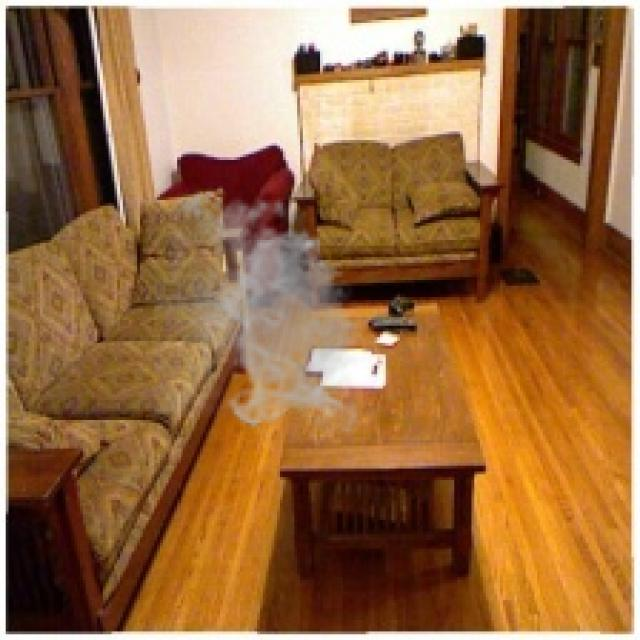smoke: (154, 183, 369, 431)
